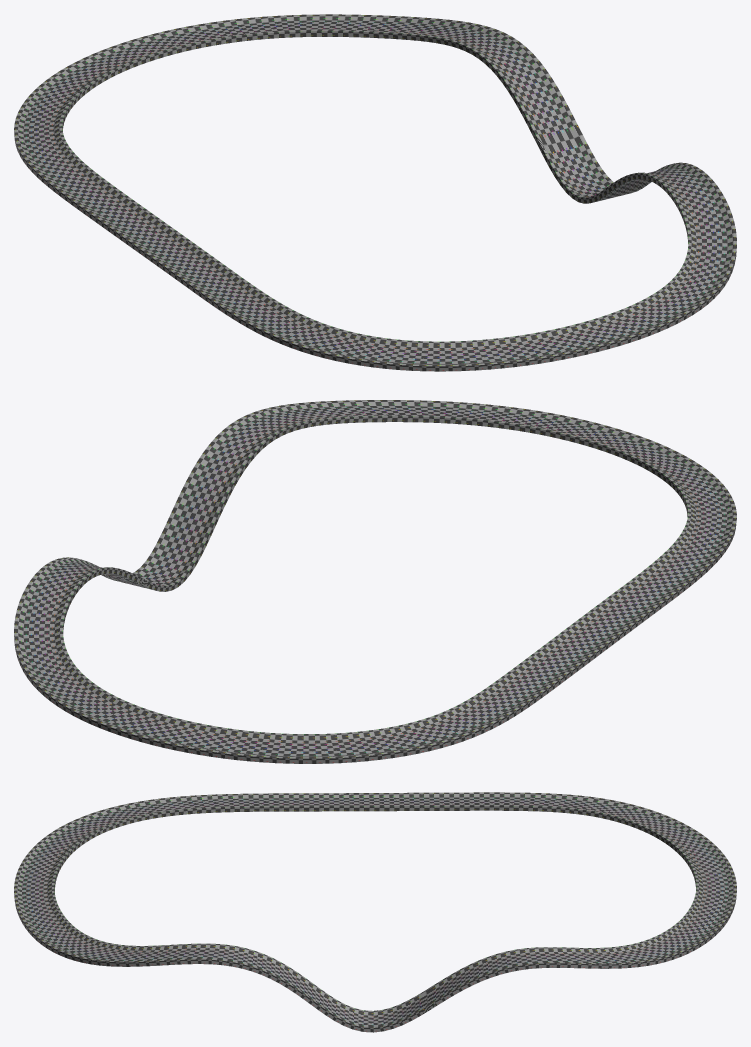
File: coaster2.obj
The picture shows the model from 3 angles, top to bottom: view 1: azimuth 30°, elevation 25°; view 2: azimuth 150°, elevation 25°; view 3: azimuth 270°, elevation 25°; orthographic projection. The views are drawn at different scales.
Visible parts, largest first — view 1: Plane.001; view 2: Plane.001; view 3: Plane.001.
Part boxes in pixels (bbox=[...]): Plane.001: bbox=[14, 14, 736, 371]; Plane.001: bbox=[14, 400, 736, 763]; Plane.001: bbox=[14, 792, 736, 1032].
Size of the model in its own units: 1853 by 317 by 2915.
Materials: 1 (1 with a texture image).
